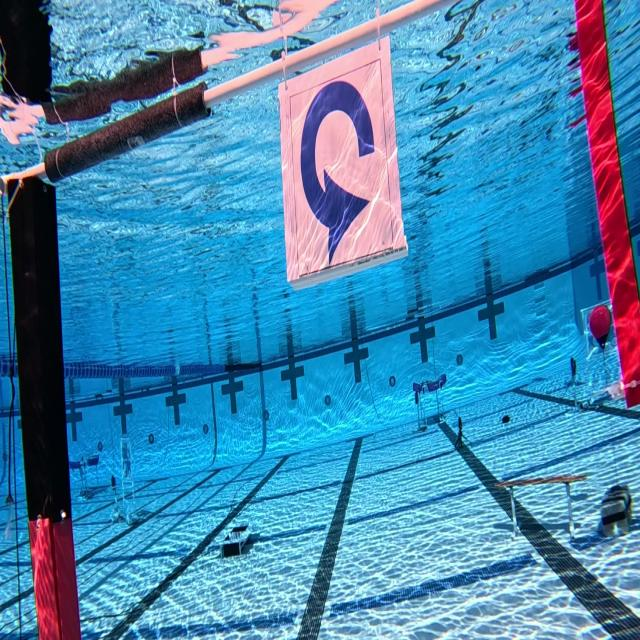blue_side: (276, 39, 406, 277)
